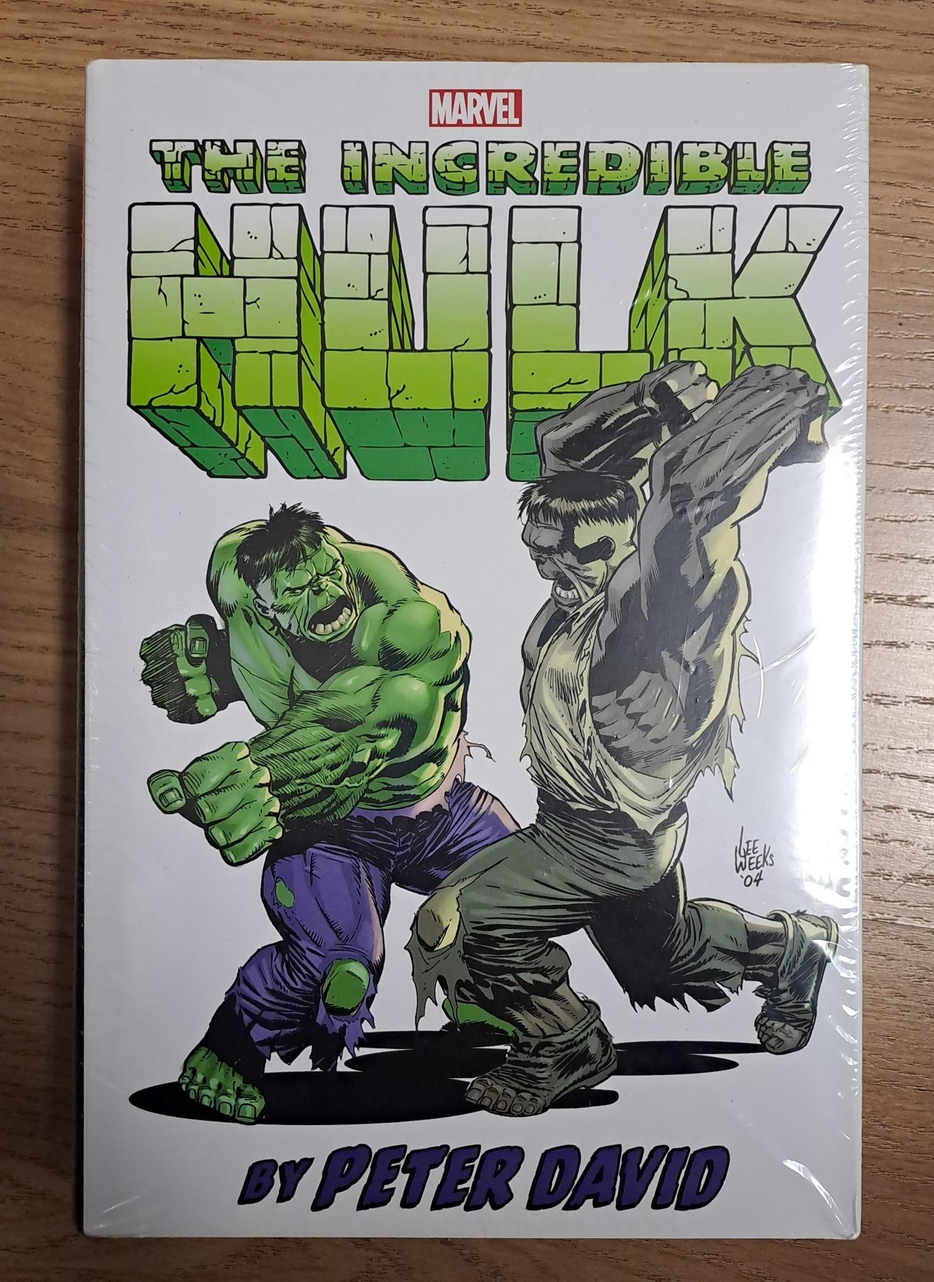comic: (80, 60, 867, 1238)
